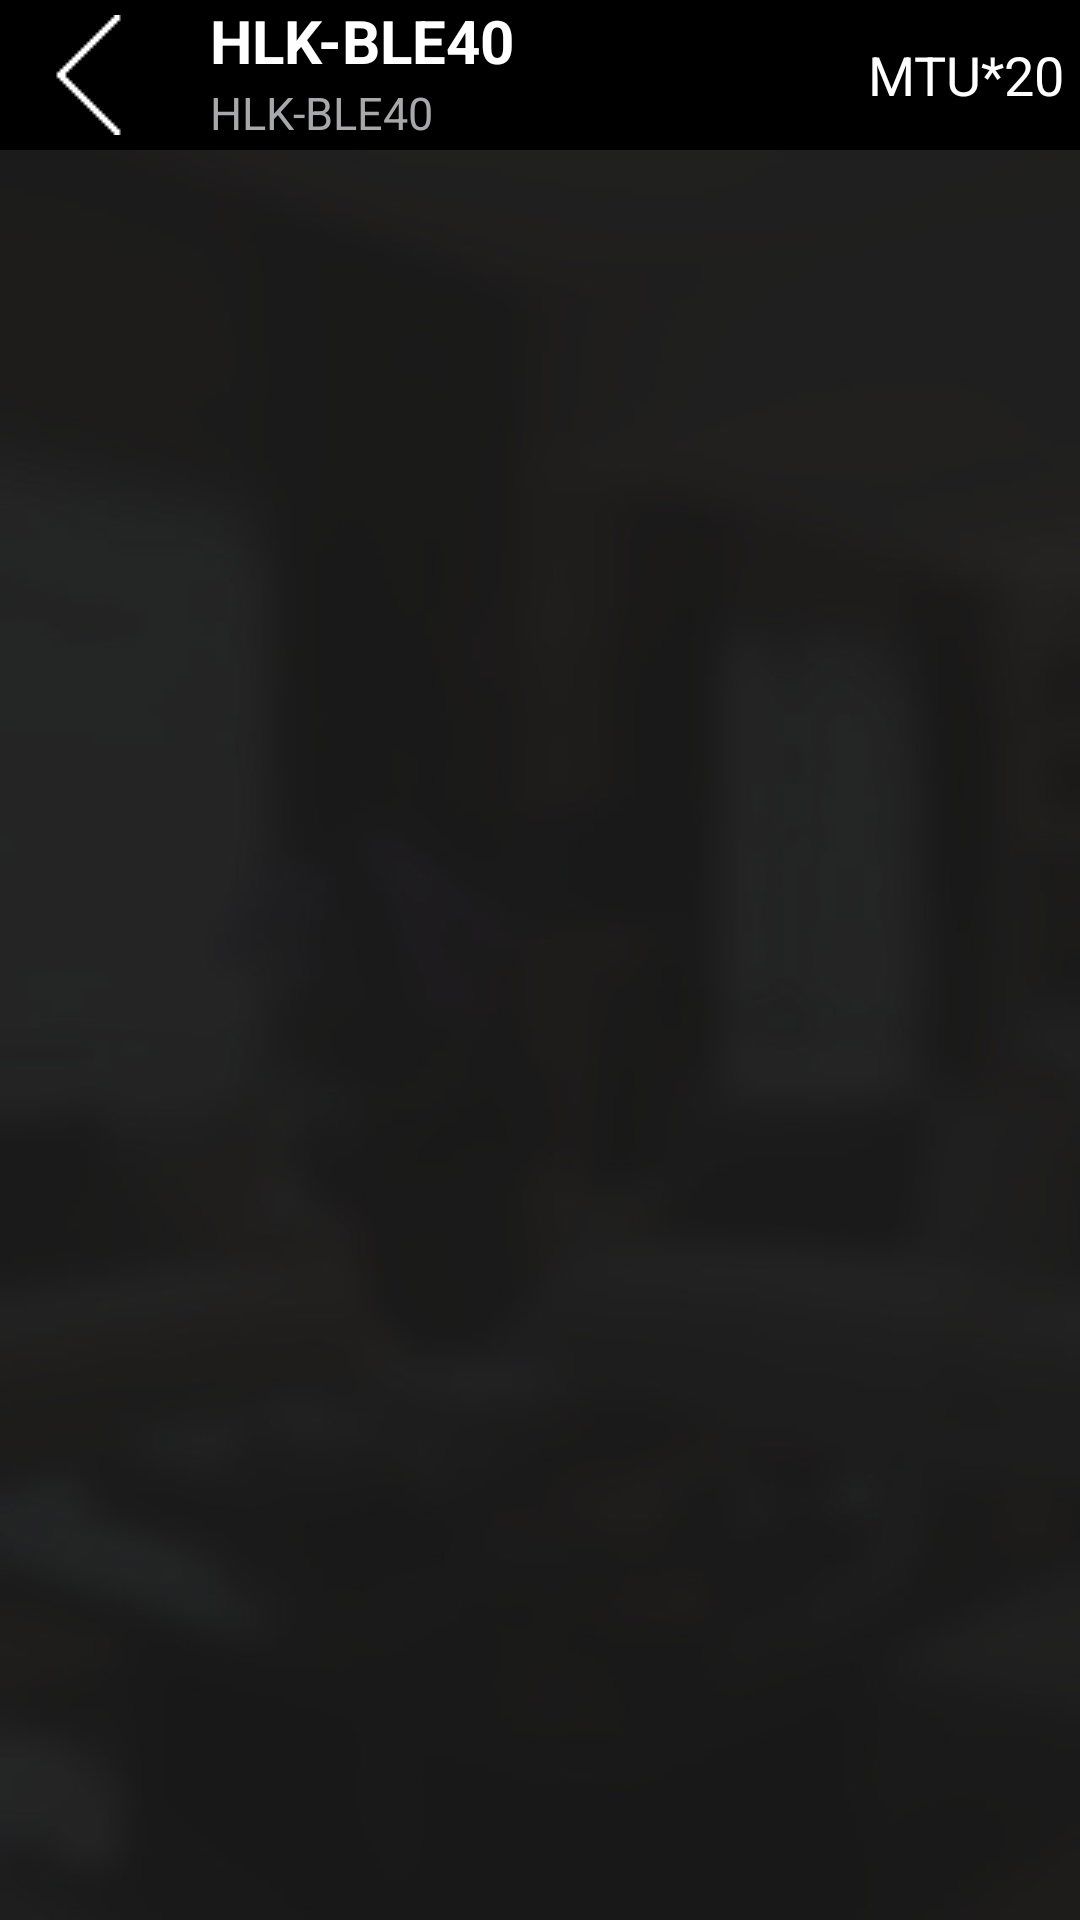

Locate icon controls on the screen. Image size 1080×1920, boxes as (left=x1, top=y1, right=x2, bottom=y2).
left: (left=56, top=15, right=121, bottom=135)
